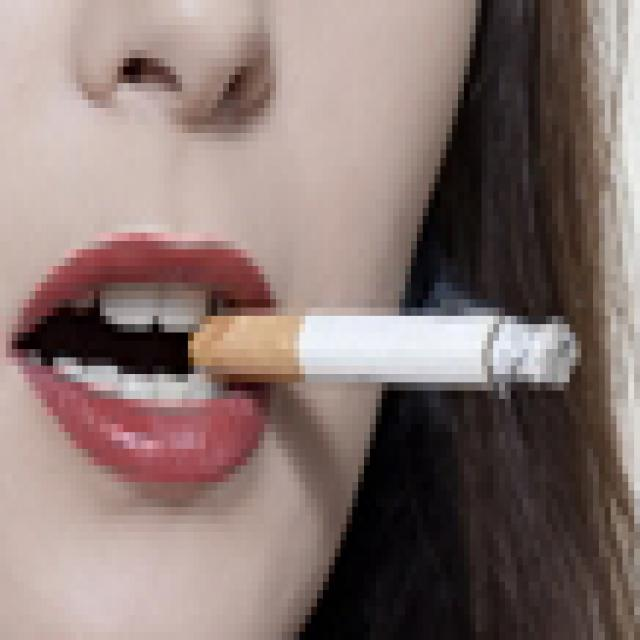smoking: (190, 308, 587, 389)
